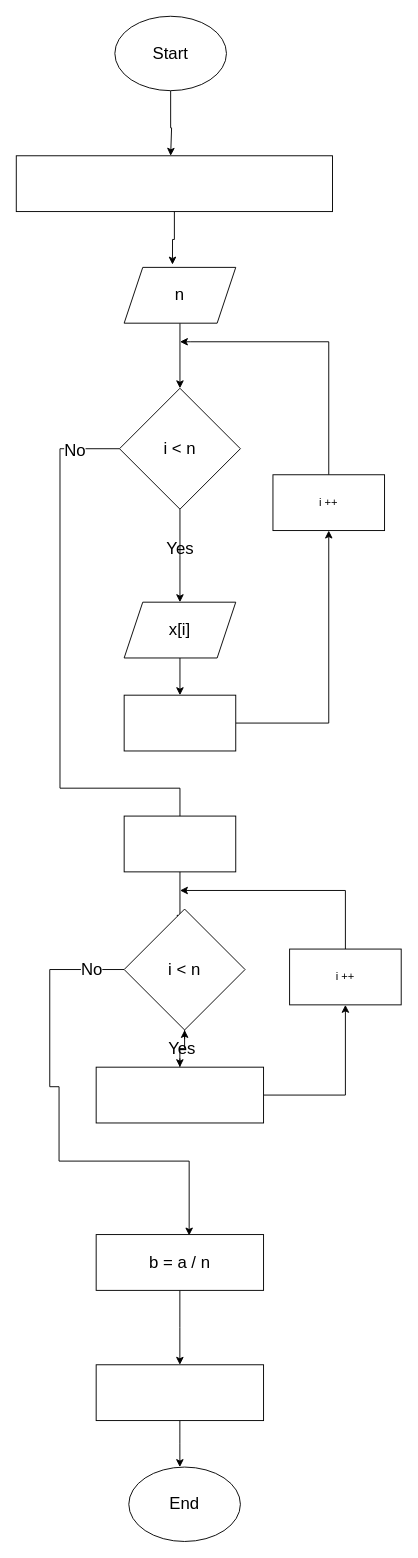
Some shapes in this 418 by 1558 pixel diagram are drawn without their labels. The centre of each missing label's shape, as x and y in pixels:
a = sqr(x[i] - ave): (179,1094)
ave = ave / n: (179,843)
ave+= x[i]: (179,722)
i, std, ave, n, a, b = 0 x = []: (173,183)
std = sqrt(b): (179,1392)
